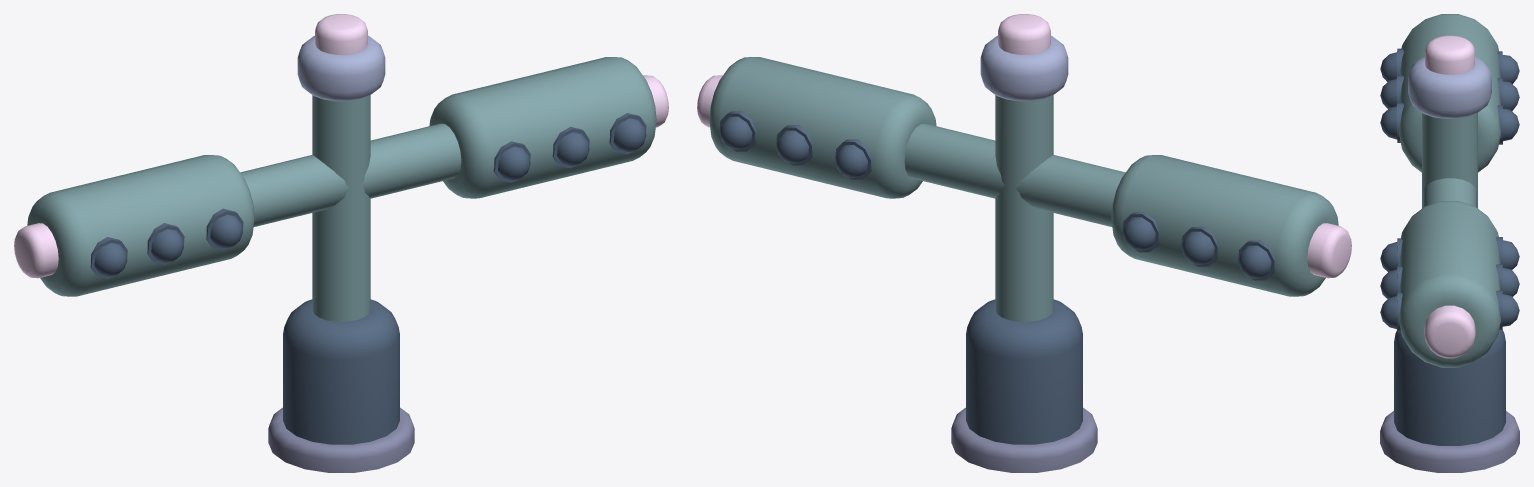
Rendered from Rotating_Double_Stick.fbx.
3 views of the same model, side by side, from view 1: azimuth 30°, elevation 25°; view 2: azimuth 150°, elevation 25°; view 3: azimuth 270°, elevation 25° (orthographic). The views are drawn at different scales.
Visible parts, largest first — view 1: Rotating_Double_Stick_Arm, Rotating_Double_Stick_Base; view 2: Rotating_Double_Stick_Arm, Rotating_Double_Stick_Base; view 3: Rotating_Double_Stick_Arm, Rotating_Double_Stick_Base.
Part boxes in pixels (x1=…): Rotating_Double_Stick_Arm: x1=14, y1=57, x2=668, y2=296; Rotating_Double_Stick_Base: x1=268, y1=14, x2=414, y2=472; Rotating_Double_Stick_Arm: x1=697, y1=57, x2=1351, y2=296; Rotating_Double_Stick_Base: x1=951, y1=14, x2=1097, y2=472; Rotating_Double_Stick_Arm: x1=1380, y1=14, x2=1519, y2=367; Rotating_Double_Stick_Base: x1=1380, y1=35, x2=1519, y2=472.
Bounding box in the file's own units: 360 × 228 × 72.
